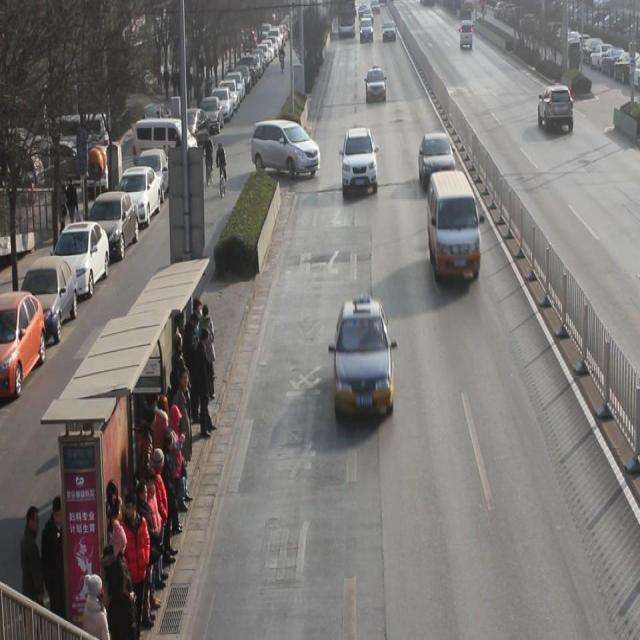car: (334, 299, 395, 423), (342, 128, 379, 198), (419, 132, 458, 194), (538, 84, 574, 134), (366, 69, 387, 104)
truck: (428, 171, 482, 285)
